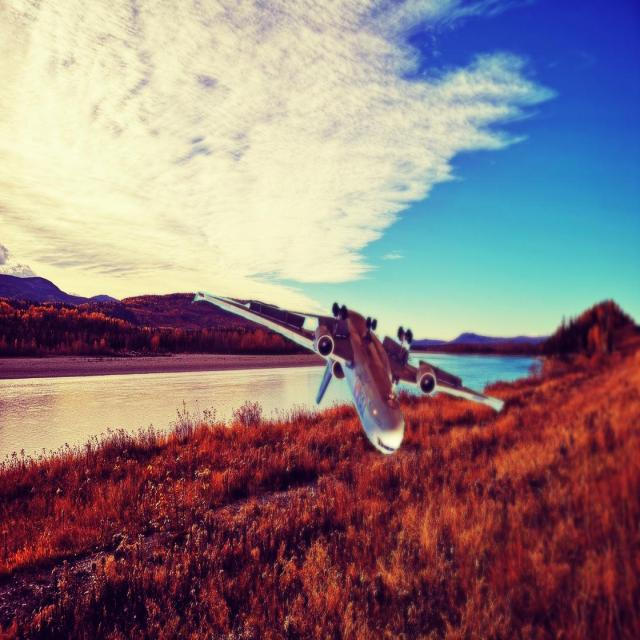airplane: (190, 289, 504, 456)
